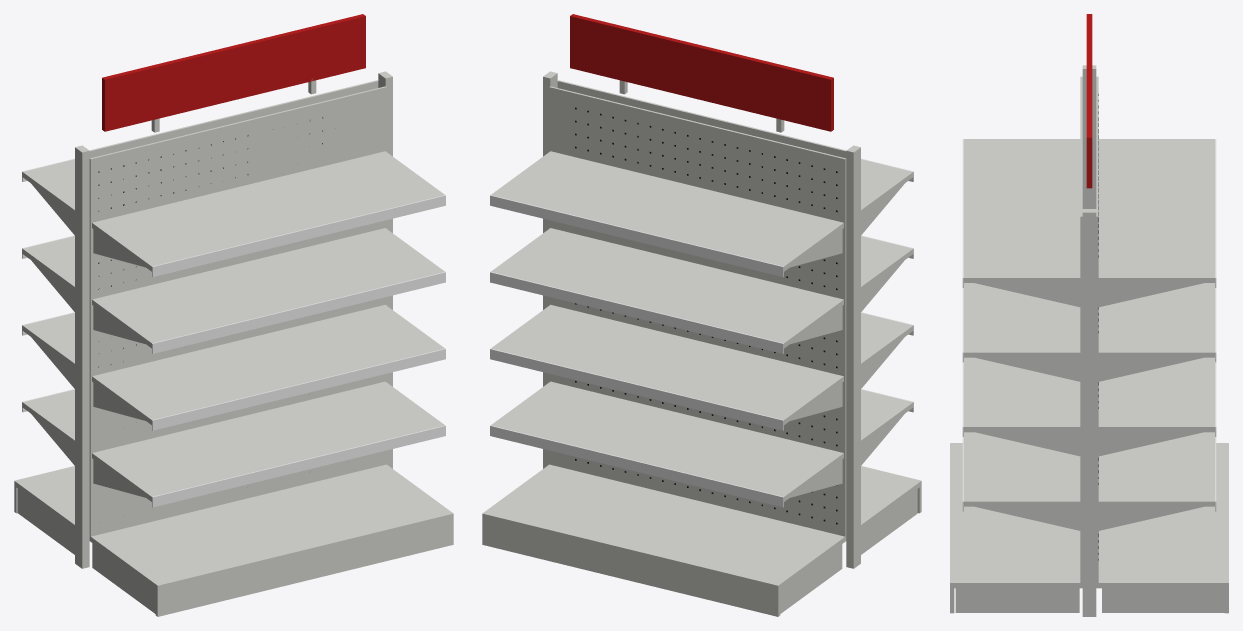
File: 052_gondola_shelving_double_sided_island.glb
3 views of the same model, side by side, from view 1: azimuth 30°, elevation 25°; view 2: azimuth 150°, elevation 25°; view 3: azimuth 270°, elevation 25° (orthographic). The views are drawn at different scales.
Visible parts, largest first — view 1: 006_face_a_pegboard_back, 002_face_a_base_deck, 008_face_a_shelf_1, 016_face_a_shelf_3, 020_face_a_shelf_4, 012_face_a_shelf_2, 046_header_sign, 003_face_a_kick_plate, 000_upright, 009_face_a_price_ticket_strip, 013_face_a_price_ticket_strip, 017_face_a_price_ticket_strip (+14 smaller); view 2: 028_face_b_pegboard_back, 024_face_b_base_deck, 030_face_b_shelf_1, 038_face_b_shelf_3, 042_face_b_shelf_4, 034_face_b_shelf_2, 046_header_sign, 025_face_b_kick_plate, 000_upright, 031_face_b_price_ticket_strip, 035_face_b_price_ticket_strip, 039_face_b_price_ticket_strip (+15 smaller); view 3: 020_face_a_shelf_4, 042_face_b_shelf_4, 002_face_a_base_deck, 024_face_b_base_deck, 012_face_a_shelf_2, 034_face_b_shelf_2, 016_face_a_shelf_3, 008_face_a_shelf_1, 038_face_b_shelf_3, 030_face_b_shelf_1, 001_upright, 005_face_a_base_bracket (+13 smaller).
Part boxes in pixels (left/top/right/bottom): 006_face_a_pegboard_back: left=89, top=86, right=386, bottom=536; 002_face_a_base_deck: left=89, top=464, right=453, bottom=590; 008_face_a_shelf_1: left=92, top=381, right=444, bottom=501; 016_face_a_shelf_3: left=92, top=228, right=444, bottom=348; 020_face_a_shelf_4: left=92, top=151, right=444, bottom=271; 012_face_a_shelf_2: left=92, top=304, right=444, bottom=424; 046_header_sign: left=102, top=14, right=365, bottom=131; 003_face_a_kick_plate: left=155, top=519, right=453, bottom=616; 000_upright: left=75, top=145, right=89, bottom=568; 009_face_a_price_ticket_strip: left=152, top=425, right=445, bottom=507; 013_face_a_price_ticket_strip: left=152, top=348, right=445, bottom=430; 017_face_a_price_ticket_strip: left=152, top=272, right=445, bottom=353; 028_face_b_pegboard_back: left=549, top=86, right=846, bottom=536; 024_face_b_base_deck: left=482, top=464, right=846, bottom=590; 030_face_b_shelf_1: left=491, top=381, right=843, bottom=501; 038_face_b_shelf_3: left=491, top=228, right=843, bottom=348; 042_face_b_shelf_4: left=491, top=151, right=843, bottom=271; 034_face_b_shelf_2: left=491, top=304, right=843, bottom=424; 046_header_sign: left=570, top=14, right=833, bottom=131; 025_face_b_kick_plate: left=482, top=519, right=780, bottom=616; 000_upright: left=846, top=145, right=860, bottom=568; 031_face_b_price_ticket_strip: left=490, top=425, right=783, bottom=507; 035_face_b_price_ticket_strip: left=490, top=348, right=783, bottom=430; 039_face_b_price_ticket_strip: left=490, top=272, right=783, bottom=353; 020_face_a_shelf_4: left=964, top=139, right=1080, bottom=282; 042_face_b_shelf_4: left=1098, top=139, right=1214, bottom=282; 002_face_a_base_deck: left=950, top=443, right=1082, bottom=588; 024_face_b_base_deck: left=1096, top=443, right=1228, bottom=588; 012_face_a_shelf_2: left=964, top=357, right=1080, bottom=432; 034_face_b_shelf_2: left=1098, top=357, right=1214, bottom=432; 016_face_a_shelf_3: left=964, top=283, right=1080, bottom=357; 008_face_a_shelf_1: left=964, top=432, right=1080, bottom=506; 038_face_b_shelf_3: left=1098, top=283, right=1214, bottom=357; 030_face_b_shelf_1: left=1098, top=432, right=1214, bottom=506; 001_upright: left=1082, top=209, right=1096, bottom=616; 005_face_a_base_bracket: left=955, top=588, right=1079, bottom=612.
Size of the model in its own units: 1.25 by 1.85 by 1.
